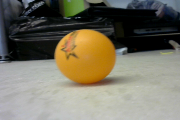PingPongBall: (55, 29, 116, 84)
